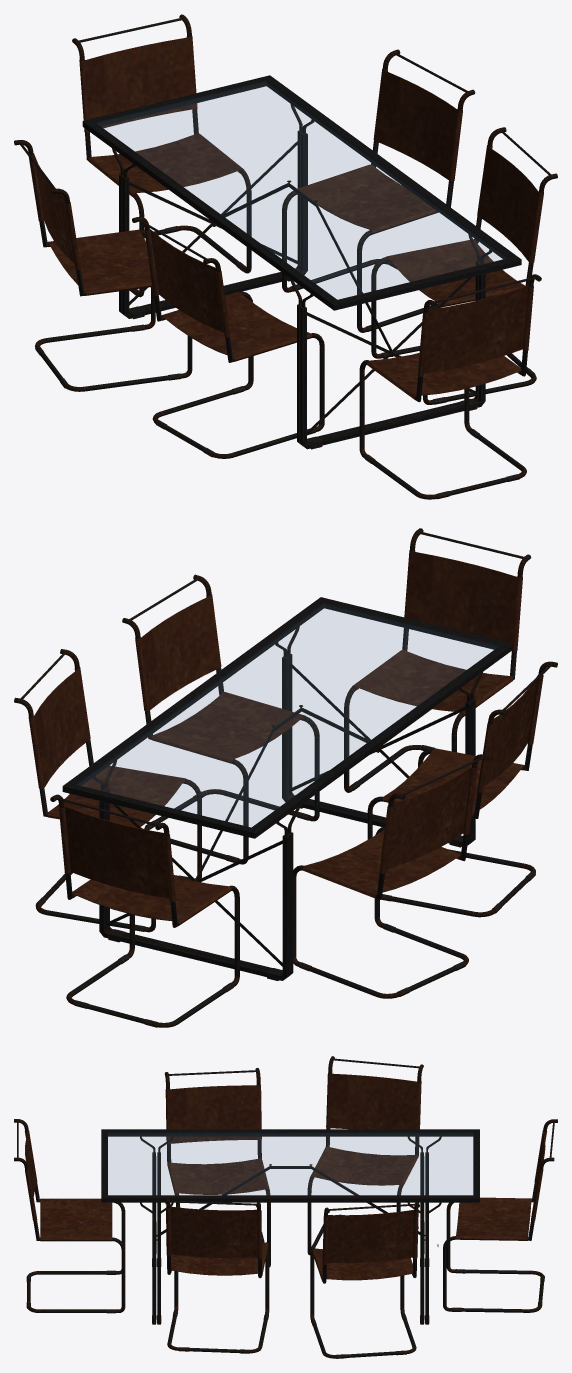
The model's file is dining.gltf.
3 renders of one model, top to bottom at view 1: azimuth 30°, elevation 25°; view 2: azimuth 150°, elevation 25°; view 3: azimuth 270°, elevation 25°, orthographic. The views are drawn at different scales.
Visible parts, largest first — view 1: Geode; view 2: Geode; view 3: Geode.
Part boxes in pixels (x1=…): Geode: x1=14, y1=14, x2=557, y2=499; Geode: x1=14, y1=528, x2=557, y2=1027; Geode: x1=14, y1=1056, x2=557, y2=1358.
Size of the model in its own units: 75.85 by 35.7 by 113.
Materials: 2 (1 with a texture image).
